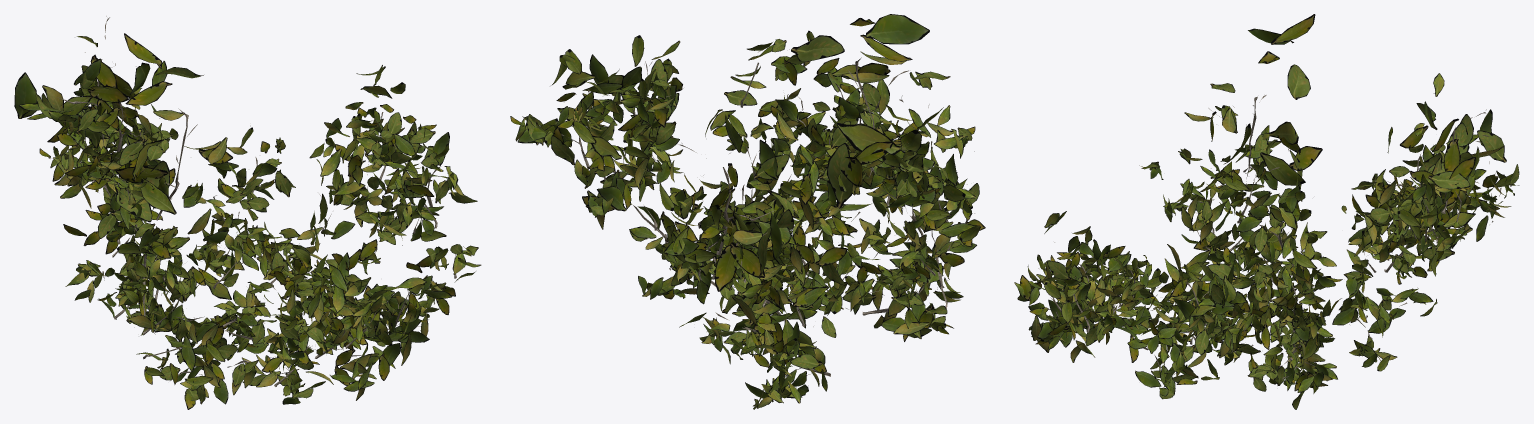
Rendered from island_tree_03.glb.
3 renders of one model, left to right at view 1: azimuth 30°, elevation 25°; view 2: azimuth 150°, elevation 25°; view 3: azimuth 270°, elevation 25°, orthographic. The views are drawn at different scales.
Visible parts, largest first — view 1: island_tree_03_LOD0; view 2: island_tree_03_LOD0; view 3: island_tree_03_LOD0.
Boxes of the visible parts, left/top/right/bottom form: island_tree_03_LOD0: left=14, top=16, right=481, bottom=409; island_tree_03_LOD0: left=510, top=14, right=985, bottom=409; island_tree_03_LOD0: left=1014, top=14, right=1519, bottom=409.
Bounding box in the file's own units: 11.18 × 10 × 13.61.
Materials: 2 (2 with a texture image).
